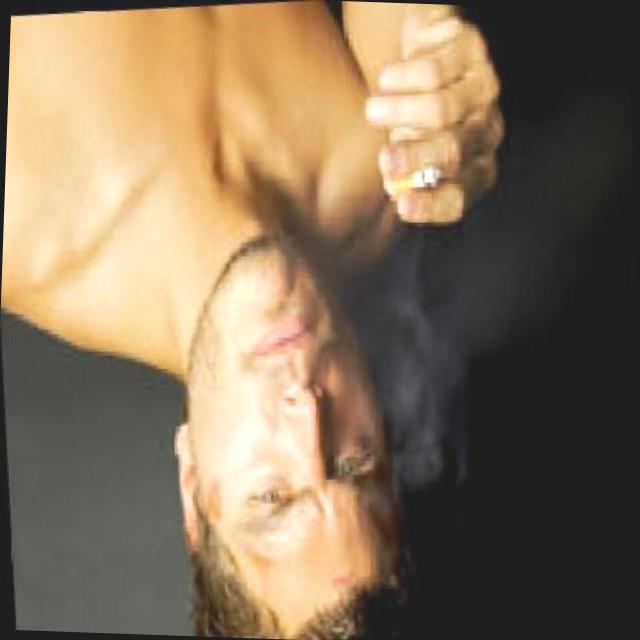smoke: (381, 159, 444, 196)
